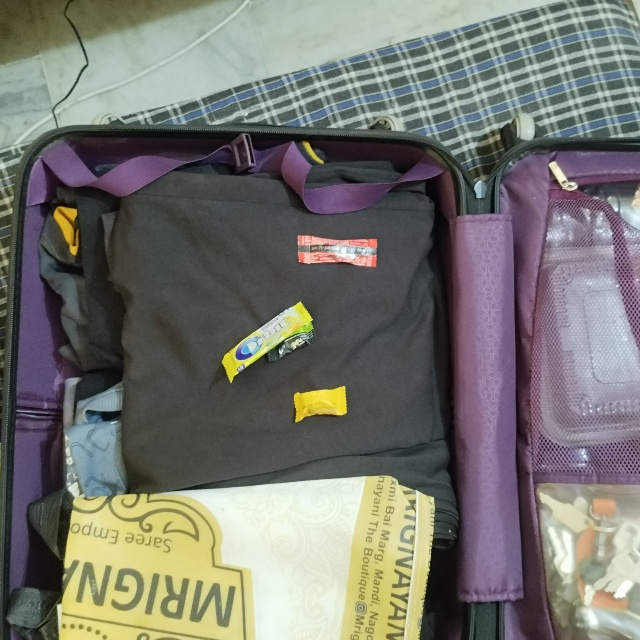Alpenlibe Creamfills: (293, 390, 348, 419)
Nescafe Coffee: (297, 235, 378, 266)
Orbit: (213, 356, 318, 382)
